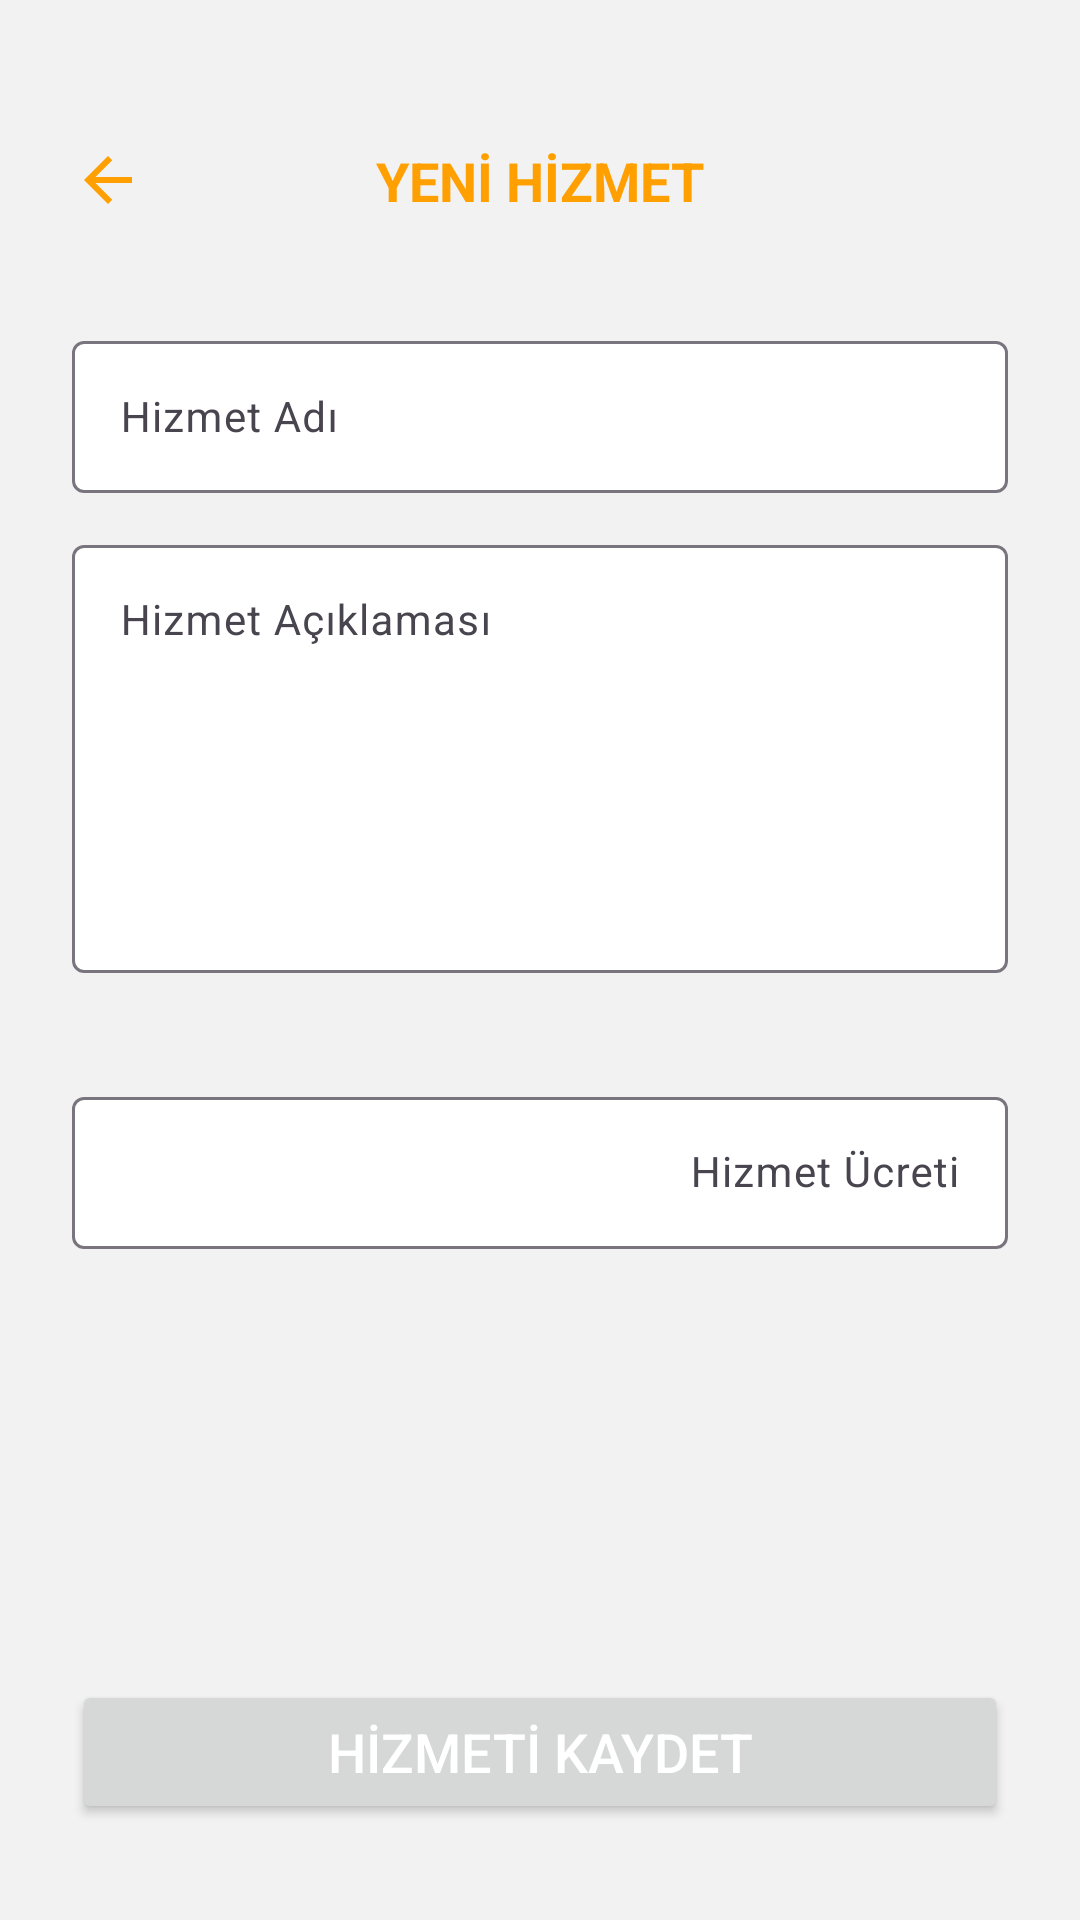

Named icons in this screenshot (1080×1920) and their bounding boxes, (x1, y1, x2, y2):
back button: (84, 156, 132, 204)
